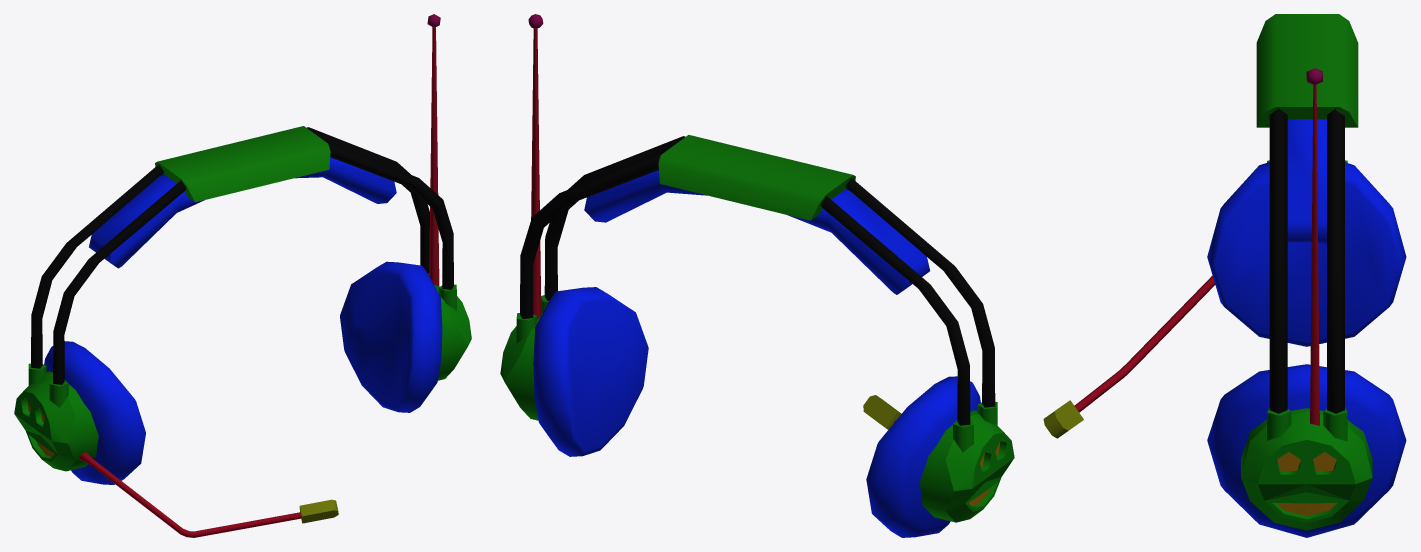
Rendered from headset_low.fbx.
The picture shows the model from 3 angles, left to right: view 1: azimuth 30°, elevation 25°; view 2: azimuth 150°, elevation 25°; view 3: azimuth 270°, elevation 25°; orthographic projection. The views are drawn at different scales.
Visible parts, largest first — view 1: Cylinder.005; view 2: Cylinder.005; view 3: Cylinder.005.
Boxes of the visible parts, bbox=[...] form: Cylinder.005: bbox=[14, 14, 471, 537]; Cylinder.005: bbox=[500, 14, 1014, 537]; Cylinder.005: bbox=[1043, 14, 1406, 537].
Size of the model in its own units: 291 by 260 by 168.
